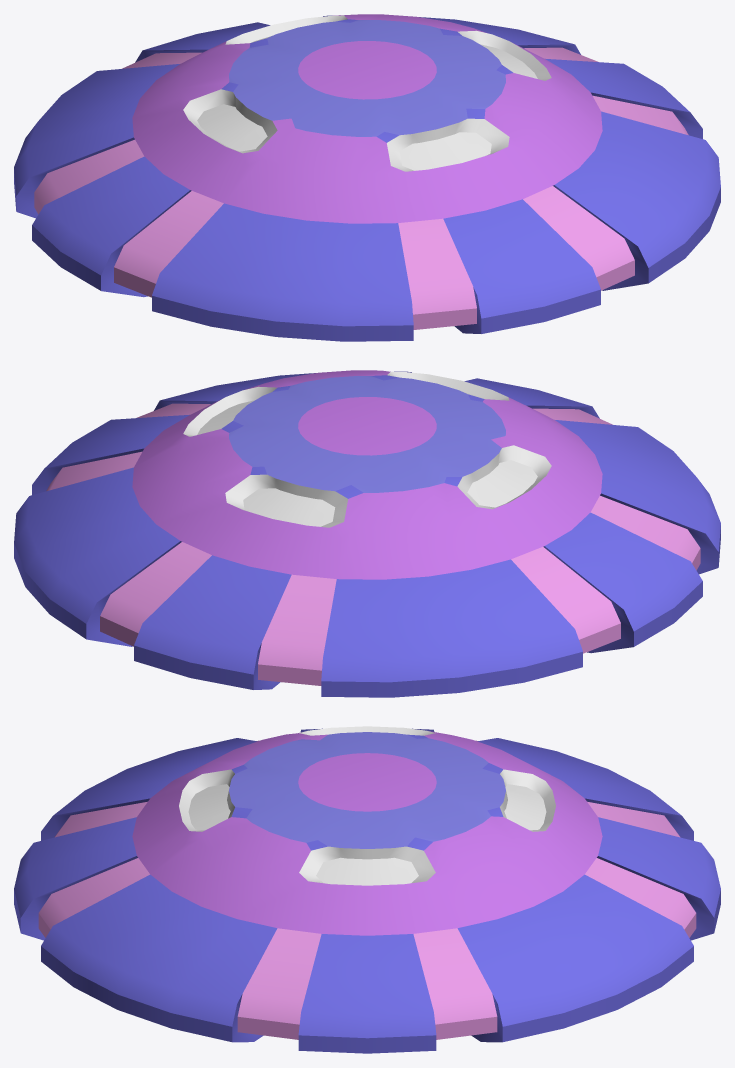
File: spaceship_10.fbx
The picture shows the model from 3 angles, top to bottom: view 1: azimuth 30°, elevation 25°; view 2: azimuth 150°, elevation 25°; view 3: azimuth 270°, elevation 25°; orthographic projection.
Parts seen in each view (by area): view 1: Cube.010, Cube.012; view 2: Cube.010, Cube.012; view 3: Cube.010, Cube.012.
Part boxes in pixels (<box>): Cube.010: <box>14,15,720,341</box>; Cube.012: <box>132,14,602,223</box>; Cube.010: <box>14,371,720,697</box>; Cube.012: <box>132,370,602,579</box>; Cube.010: <box>14,728,720,1053</box>; Cube.012: <box>132,726,602,935</box>.
Bounding box in the file's own units: 777 × 193 × 777.
